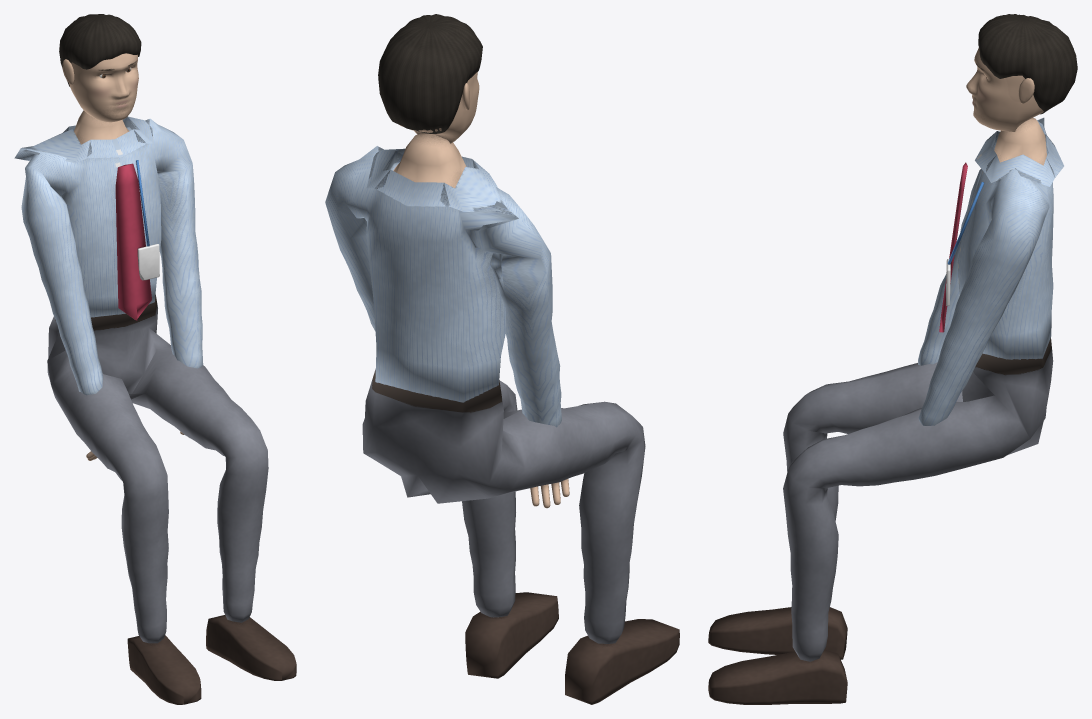
Rendered from SEAT_PassengerC.fbx.
3 views of the same model, side by side, from view 1: azimuth 30°, elevation 25°; view 2: azimuth 150°, elevation 25°; view 3: azimuth 270°, elevation 25° (orthographic). The views are drawn at different scales.
Visible parts, largest first — view 1: SEAT_PassengerC; view 2: SEAT_PassengerC; view 3: SEAT_PassengerC.
Boxes of the visible parts, x1,y1,x2,y2 form: SEAT_PassengerC: (14,14,296,704); SEAT_PassengerC: (325,14,679,704); SEAT_PassengerC: (708,14,1077,704).
Bounding box in the file's own units: 0.45 × 1.48 × 0.7559.
Materials: 1 (1 with a texture image).
